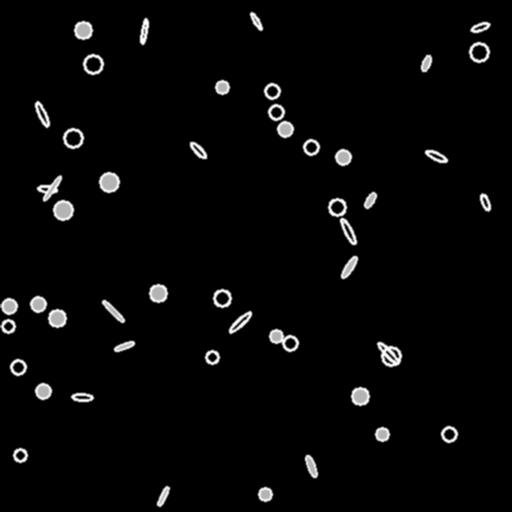pseudomonas: (376, 340, 400, 366), (227, 310, 253, 334), (338, 216, 358, 246), (101, 299, 125, 323), (42, 175, 62, 201), (34, 100, 50, 128), (340, 255, 358, 279), (424, 148, 448, 164), (304, 454, 318, 478), (189, 141, 207, 159), (156, 485, 170, 507), (113, 340, 135, 352), (249, 12, 263, 30), (470, 21, 490, 33), (363, 192, 377, 208), (479, 193, 491, 211), (420, 54, 432, 72), (140, 19, 148, 43), (71, 393, 93, 401), (38, 185, 56, 193)
synechocystis: (100, 173, 118, 191), (84, 55, 102, 73), (54, 201, 72, 219), (382, 347, 400, 365), (64, 129, 82, 147), (470, 43, 488, 61), (352, 388, 368, 404), (49, 310, 65, 326), (75, 22, 91, 38), (329, 199, 345, 215), (214, 290, 230, 306), (150, 285, 166, 301), (283, 336, 297, 350), (265, 84, 279, 98), (269, 105, 283, 119), (2, 299, 16, 313), (278, 122, 292, 136), (442, 427, 456, 441), (36, 384, 50, 398), (304, 140, 318, 154), (31, 297, 45, 311), (336, 150, 350, 164), (11, 360, 25, 374), (376, 428, 388, 440), (216, 81, 228, 93), (2, 320, 14, 332), (206, 351, 218, 363), (259, 488, 271, 500), (14, 449, 26, 461), (270, 330, 282, 342)
